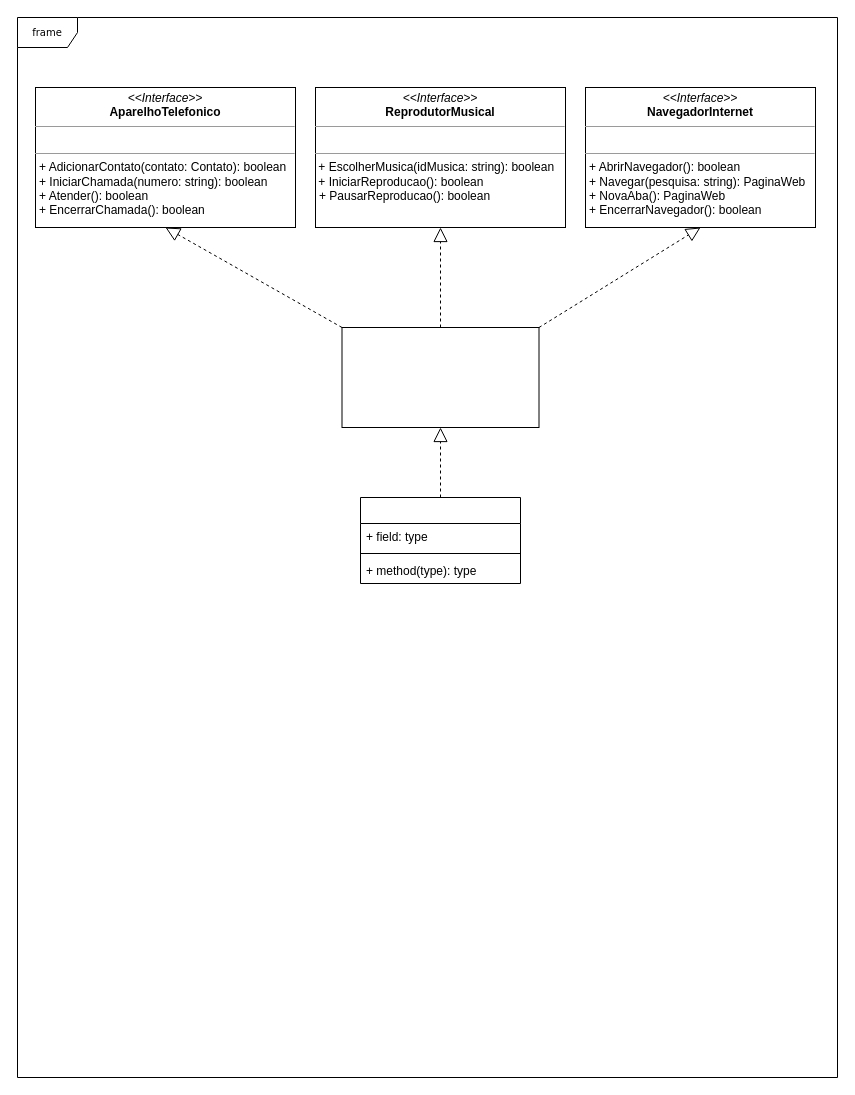
Image size: 855x1095. Some labels were removed from this diagram. The shapes that lost their labels are listed below. From the top down, each one's box as (x1, y1, x2, y2) in pixels, then its label:
(341, 326, 539, 428): <<Interface>> Celular - EscolherFuncao(idFuncao): string
(360, 496, 520, 584): Iphone
